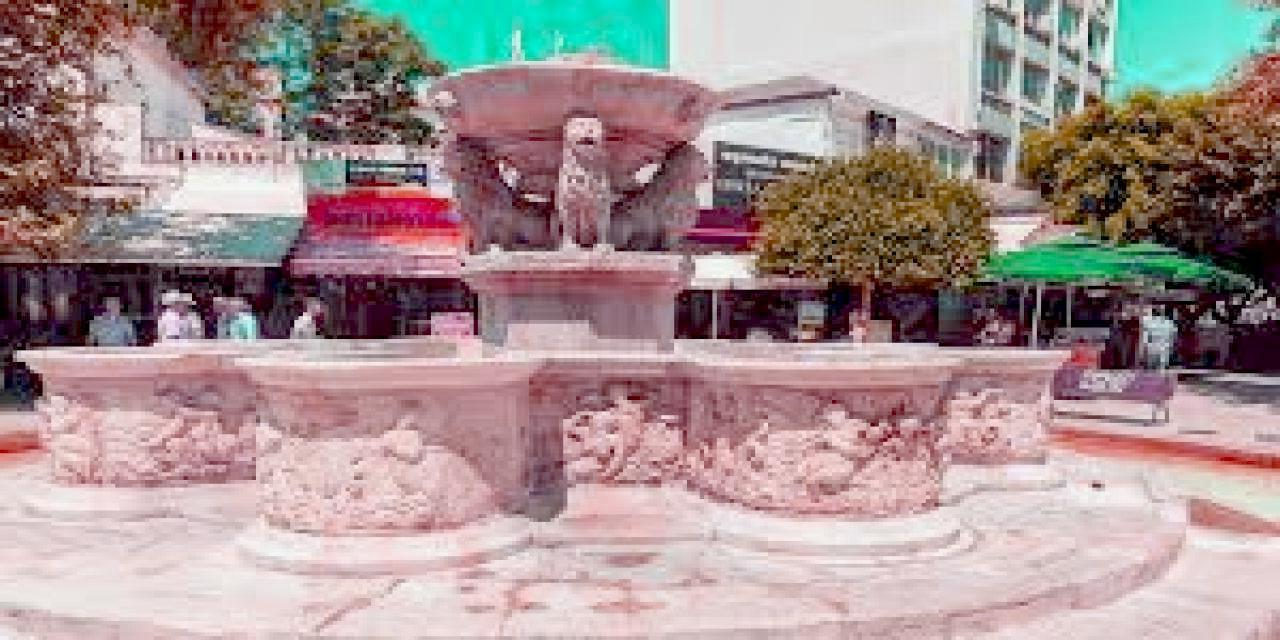Liontaria: (18, 56, 1057, 553)
